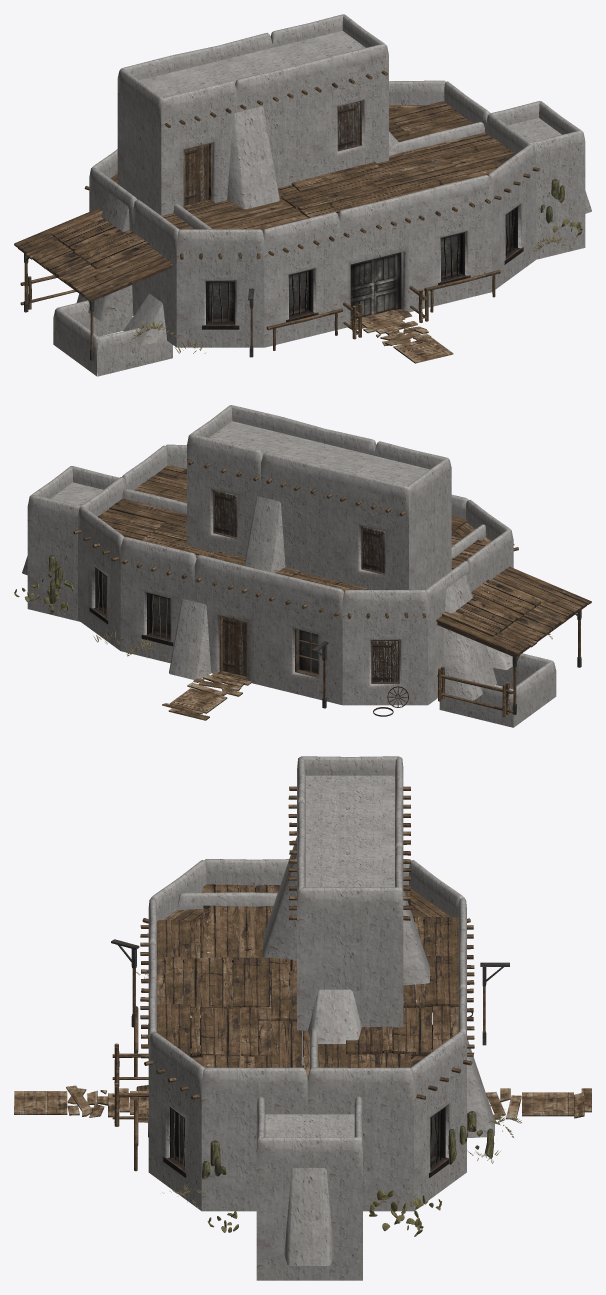
Rendered from House_03.gltf.
The picture shows the model from 3 angles, top to bottom: view 1: azimuth 30°, elevation 25°; view 2: azimuth 150°, elevation 25°; view 3: azimuth 270°, elevation 25°; orthographic projection. The views are drawn at different scales.
Visible parts, largest first — view 1: Roof_W6_v1 (×2), Roof_W6_v1 (2), Wall_W_W3H3_T3 (3), Roof_W6D6_v2, Roof_W6D6_v1, Wall_W_W3H3_T3 (9), Wall_W_W3H3_T3, Wall_W_W3H3_T3 (1), Wall_Support_T3_v1 (2), Wall_D_W3H3_T3 (1), Wall_W3H3_T3 (7), Wall_W3H3_T3 (+41 smaller); view 2: Roof_W6_v1 (1) (×2), Roof_W6_v1 (3), Wall_W_W3H3_T3 (5), Wall_W_W3H3_T3 (6), Roof_W6D6_v1, Wall_W_W3H3_T3 (10), Wall_W3H3_T3 (9), Wall_W_W3H3_T3 (11), Wall_W_W3H3_T3 (7), Wall_Support_T3_v1 (1), Wall_W3H3_T3 (6), Roof_W6D6_v2 (+42 smaller); view 3: Wall_W3H3_T3 (8), Wall_W3H3_T3 (1), Roof_W3D3_v1 (1), Roof_W3D3_v1 (3), Roof_W3_v1 (15), Wall_W3H3_T3 (2), Roof_W3_v1 (7), Roof_W3_v1 (1), Wall_W3H3_T3 (4), Roof_W3_v1 (3), Roof_W6D6_v2 (1), Roof_W6D6_v2 (+31 smaller).
Boxes of the visible parts, bbox=[...] form: Roof_W6_v1 (×2): bbox=[338, 122, 491, 249]; Roof_W6_v1 (2): bbox=[235, 44, 388, 112]; Wall_W_W3H3_T3 (3): bbox=[176, 268, 264, 347]; Roof_W6D6_v2: bbox=[377, 101, 515, 177]; Roof_W6D6_v1: bbox=[14, 208, 172, 301]; Wall_W_W3H3_T3 (9): bbox=[313, 82, 388, 177]; Wall_W_W3H3_T3: bbox=[264, 250, 340, 347]; Wall_W_W3H3_T3 (1): bbox=[416, 213, 491, 309]; Wall_Support_T3_v1 (2): bbox=[227, 106, 279, 209]; Wall_D_W3H3_T3 (1): bbox=[161, 120, 232, 215]; Wall_W3H3_T3 (7): bbox=[117, 105, 161, 215]; Wall_W3H3_T3: bbox=[536, 168, 585, 259]; Roof_W6_v1 (1) (×2): bbox=[194, 524, 486, 627]; Roof_W6_v1 (3): bbox=[261, 452, 408, 524]; Wall_W_W3H3_T3 (5): bbox=[342, 628, 427, 705]; Wall_W_W3H3_T3 (6): bbox=[268, 610, 342, 705]; Roof_W6D6_v1: bbox=[436, 566, 591, 657]; Wall_W_W3H3_T3 (10): bbox=[335, 507, 408, 589]; Wall_W3H3_T3 (9): bbox=[261, 489, 334, 580]; Wall_W_W3H3_T3 (11): bbox=[187, 471, 260, 557]; Wall_W_W3H3_T3 (7): bbox=[120, 574, 194, 663]; Wall_Support_T3_v1 (1): bbox=[442, 575, 496, 700]; Wall_W3H3_T3 (6): bbox=[27, 531, 80, 621]; Roof_W6D6_v2: bbox=[97, 465, 186, 540]; Wall_W3H3_T3 (8): bbox=[297, 934, 403, 1030]; Wall_W3H3_T3 (1): bbox=[256, 1184, 362, 1280]; Roof_W3D3_v1 (1): bbox=[157, 956, 269, 1009]; Roof_W3D3_v1 (3): bbox=[157, 1003, 270, 1057]; Roof_W3_v1 (15): bbox=[297, 887, 403, 934]; Wall_W3H3_T3 (2): bbox=[201, 1115, 256, 1211]; Roof_W3_v1 (7): bbox=[307, 1067, 413, 1114]; Roof_W3_v1 (1): bbox=[201, 1067, 307, 1114]; Wall_W3H3_T3 (4): bbox=[363, 1115, 413, 1211]; Roof_W3_v1 (3): bbox=[256, 1137, 362, 1184]; Roof_W6D6_v2 (1): bbox=[203, 884, 410, 986]; Roof_W6D6_v2: bbox=[203, 997, 410, 1078].
Size of the model in its own units: 21.22 by 9.08 by 16.33.
Materials: 2 (2 with a texture image).
